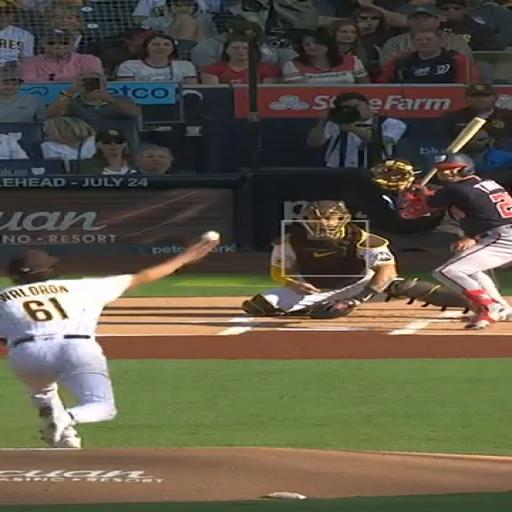bat: (446, 117, 487, 153)
